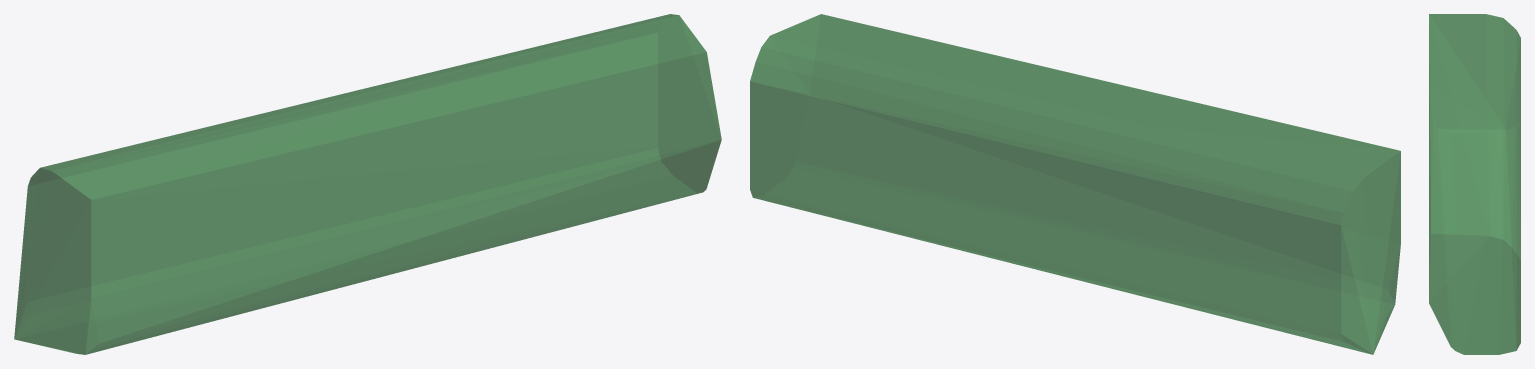
3 renders of one model, left to right at view 1: azimuth 30°, elevation 25°; view 2: azimuth 150°, elevation 25°; view 3: azimuth 270°, elevation 25°, orthographic. The views are drawn at different scales.
Parts seen in each view (by area): view 1: Shape_IndexedFaceSet.003_Shape_IndexedFaceSet.9138; view 2: Shape_IndexedFaceSet.003_Shape_IndexedFaceSet.9138; view 3: Shape_IndexedFaceSet.003_Shape_IndexedFaceSet.9138.
Boxes of the visible parts, bbox=[...] form: Shape_IndexedFaceSet.003_Shape_IndexedFaceSet.9138: bbox=[14, 14, 721, 354]; Shape_IndexedFaceSet.003_Shape_IndexedFaceSet.9138: bbox=[750, 14, 1400, 354]; Shape_IndexedFaceSet.003_Shape_IndexedFaceSet.9138: bbox=[1429, 14, 1520, 354].
Size of the model in its own units: 0.3344 by 0.0844 by 0.0564.
